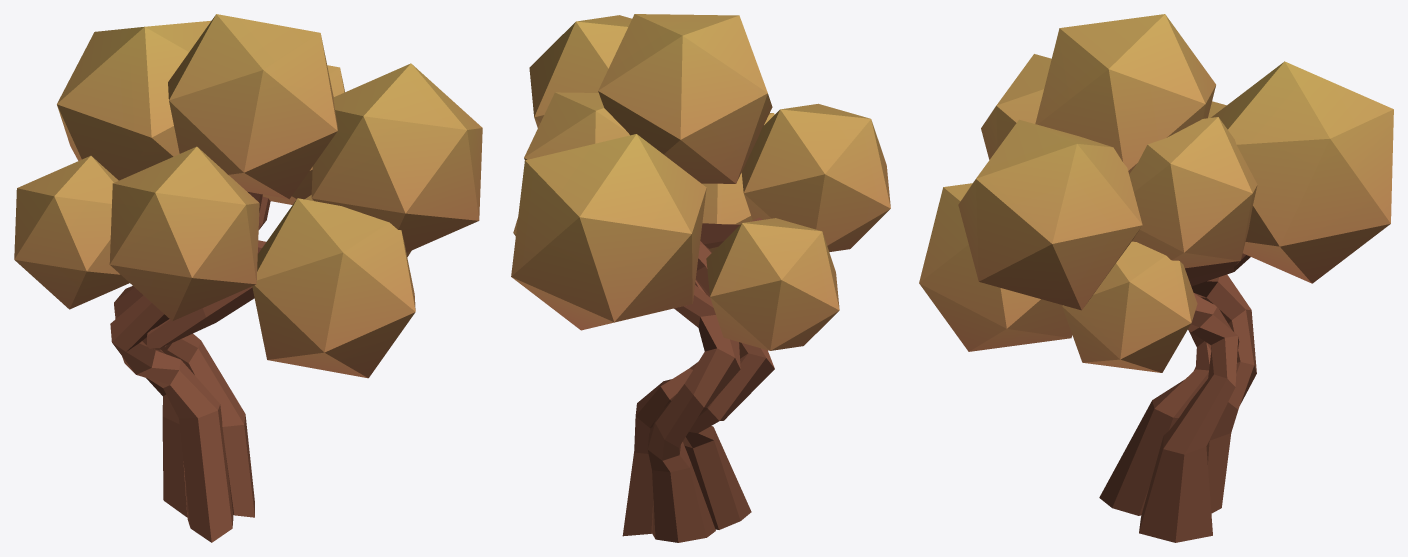
File: Tree_06_gradient_yellow_vc.fbx
3 renders of one model, left to right at view 1: azimuth 30°, elevation 25°; view 2: azimuth 150°, elevation 25°; view 3: azimuth 270°, elevation 25°, orthographic. The views are drawn at different scales.
Parts seen in each view (by area): view 1: Tree_06_gradient_yellow_vc; view 2: Tree_06_gradient_yellow_vc; view 3: Tree_06_gradient_yellow_vc.
Boxes of the visible parts, <box> form: Tree_06_gradient_yellow_vc: <box>14,14,482,542</box>; Tree_06_gradient_yellow_vc: <box>511,14,890,542</box>; Tree_06_gradient_yellow_vc: <box>919,14,1393,542</box>.
Bounding box in the file's own units: 488 × 598 × 507.
